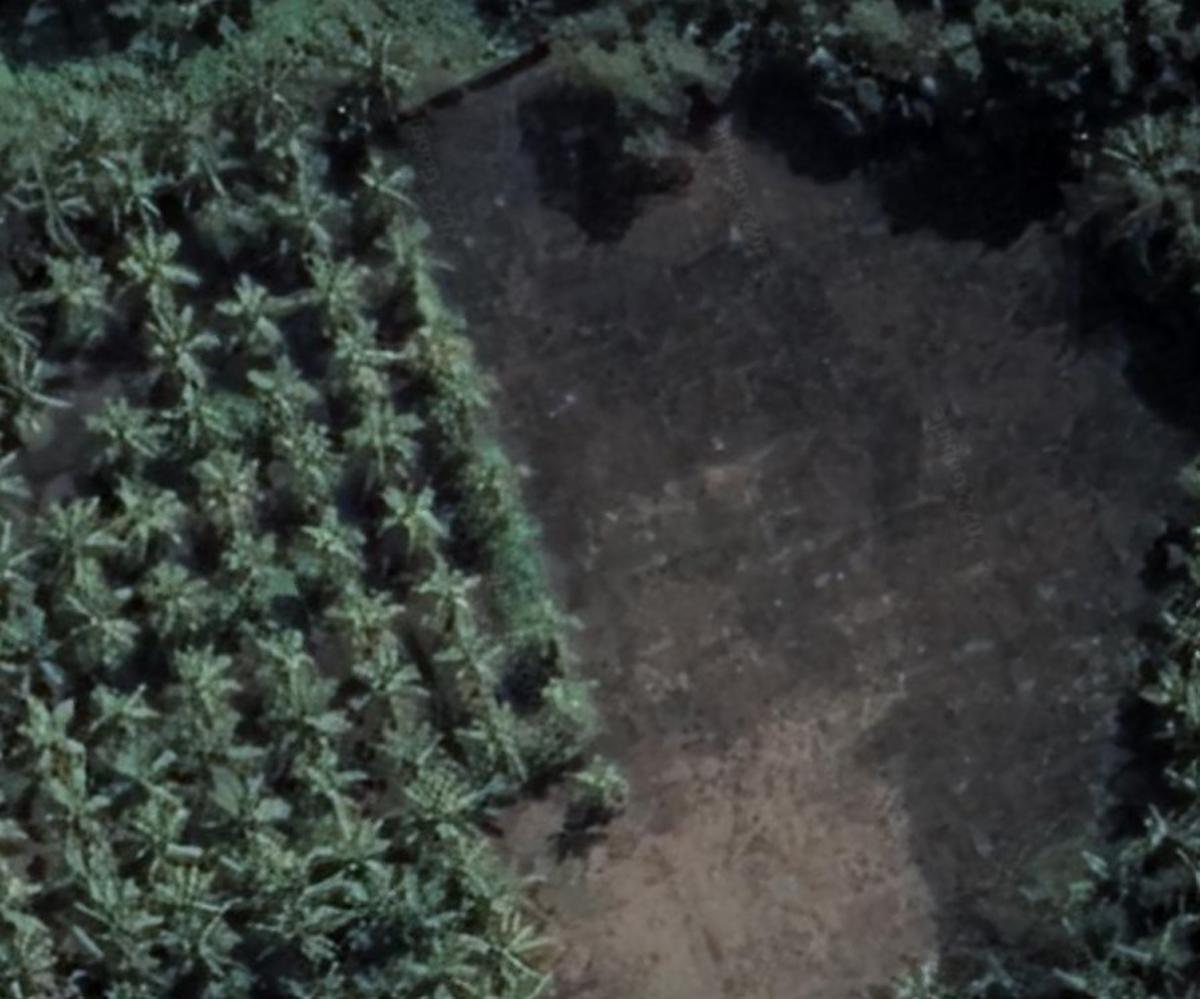coconut: (169, 135, 266, 236), (131, 307, 228, 406), (5, 351, 82, 462), (197, 770, 295, 855), (187, 453, 278, 544), (337, 36, 429, 125), (454, 910, 548, 994), (84, 401, 177, 485), (216, 271, 301, 359), (80, 687, 168, 770), (117, 801, 200, 888), (65, 591, 151, 674), (89, 140, 171, 224), (32, 496, 112, 580), (296, 504, 378, 585), (295, 748, 373, 833), (144, 866, 230, 942), (258, 421, 347, 493), (109, 484, 189, 564), (238, 365, 329, 435), (175, 391, 256, 469), (416, 557, 498, 633), (5, 159, 78, 244), (18, 692, 90, 777), (366, 474, 453, 544), (350, 635, 422, 718), (113, 230, 199, 296), (143, 564, 214, 639), (172, 647, 239, 726), (274, 188, 345, 262), (351, 405, 426, 474), (33, 774, 105, 842), (436, 644, 508, 708), (357, 213, 440, 268), (303, 263, 366, 331), (345, 155, 417, 212), (222, 534, 284, 600)
